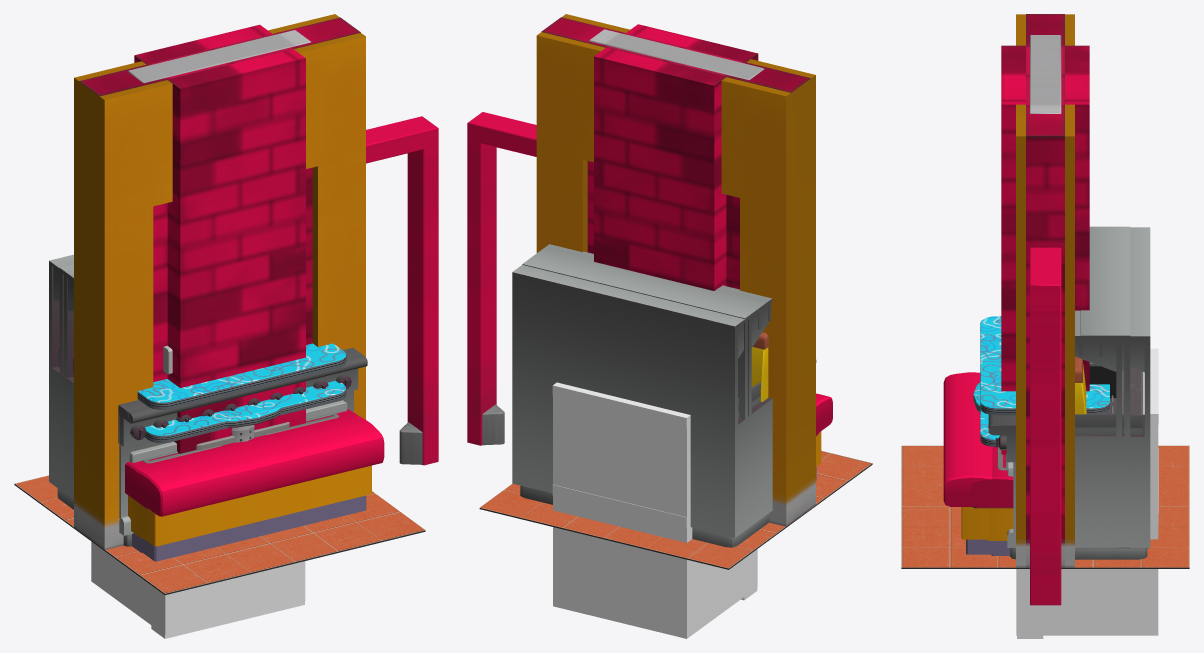
Rendered from RestaurtantProps.gltf.
3 renders of one model, left to right at view 1: azimuth 30°, elevation 25°; view 2: azimuth 150°, elevation 25°; view 3: azimuth 270°, elevation 25°, orthographic. The views are drawn at different scales.
Parts seen in each view (by area): view 1: wall_outlet, wall_pillar_brick, booth, door_swing_double_frame, floor_tile_pattern_brick, counter_front, ovendoor.001, wall_medium, gas.001, table_rectangle_high_table, window_full, table_rectangle (+4 smaller); view 2: wall_outlet, gas.001, wall_pillar_brick, counter_front, counter_closed, door_swing_double_frame, floor_tile_pattern_brick, griddle.002, wall_medium, window_full, counter_front_cut, counter_cut (+3 smaller); view 3: floor_tile_pattern_brick, door_swing_double_frame, wall_pillar_brick, wall_outlet, wall_medium, ovendoor.001, counter_front, griddle.002, gas.001, booth, booth.001, table_rectangle_high_table (+5 smaller).
Part boxes in pixels (x1=…): wall_outlet: x1=74, y1=14, x2=365, y2=550; wall_pillar_brick: x1=134, y1=24, x2=305, y2=453; booth: x1=125, y1=416, x2=384, y2=561; door_swing_double_frame: x1=366, y1=116, x2=438, y2=465; floor_tile_pattern_brick: x1=14, y1=475, x2=425, y2=595; counter_front: x1=91, y1=541, x2=305, y2=635; ovendoor.001: x1=64, y1=275, x2=367, y2=546; wall_medium: x1=79, y1=17, x2=360, y2=382; gas.001: x1=49, y1=254, x2=73, y2=509; table_rectangle_high_table: x1=137, y1=343, x2=346, y2=409; window_full: x1=127, y1=30, x2=310, y2=82; table_rectangle: x1=144, y1=380, x2=346, y2=442; wall_outlet: x1=536, y1=14, x2=815, y2=526; gas.001: x1=512, y1=265, x2=772, y2=547; wall_pillar_brick: x1=594, y1=24, x2=758, y2=290; counter_front: x1=553, y1=481, x2=757, y2=638; counter_closed: x1=553, y1=396, x2=692, y2=542; door_swing_double_frame: x1=467, y1=112, x2=536, y2=445; floor_tile_pattern_brick: x1=479, y1=450, x2=872, y2=569; griddle.002: x1=522, y1=246, x2=772, y2=419; wall_medium: x1=541, y1=17, x2=810, y2=289; window_full: x1=589, y1=29, x2=764, y2=80; counter_front_cut: x1=552, y1=484, x2=757, y2=600; counter_cut: x1=552, y1=382, x2=690, y2=428; floor_tile_pattern_brick: x1=901, y1=445, x2=1189, y2=568; door_swing_double_frame: x1=1030, y1=247, x2=1061, y2=605; wall_pillar_brick: x1=1001, y1=45, x2=1089, y2=454; wall_outlet: x1=1016, y1=14, x2=1074, y2=567; wall_medium: x1=1026, y1=14, x2=1064, y2=567; ovendoor.001: x1=988, y1=310, x2=1121, y2=559; counter_front: x1=1016, y1=510, x2=1158, y2=635; griddle.002: x1=1000, y1=226, x2=1130, y2=559; gas.001: x1=1075, y1=227, x2=1150, y2=559; booth: x1=943, y1=372, x2=992, y2=554; booth.001: x1=970, y1=356, x2=1086, y2=555; table_rectangle_high_table: x1=980, y1=316, x2=1109, y2=415.
Size of the model in its own units: 2.62 by 4.07 by 2.
27 materials, 26 textured.
